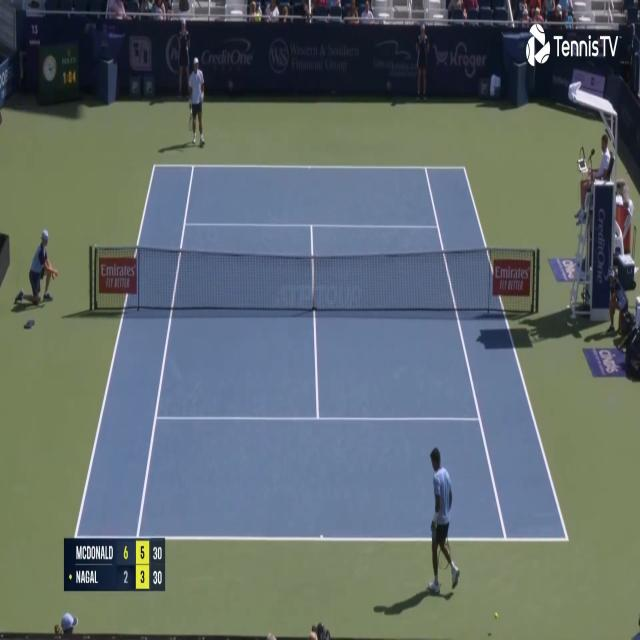tennis-player: (424, 443, 460, 601), (187, 53, 207, 148)
